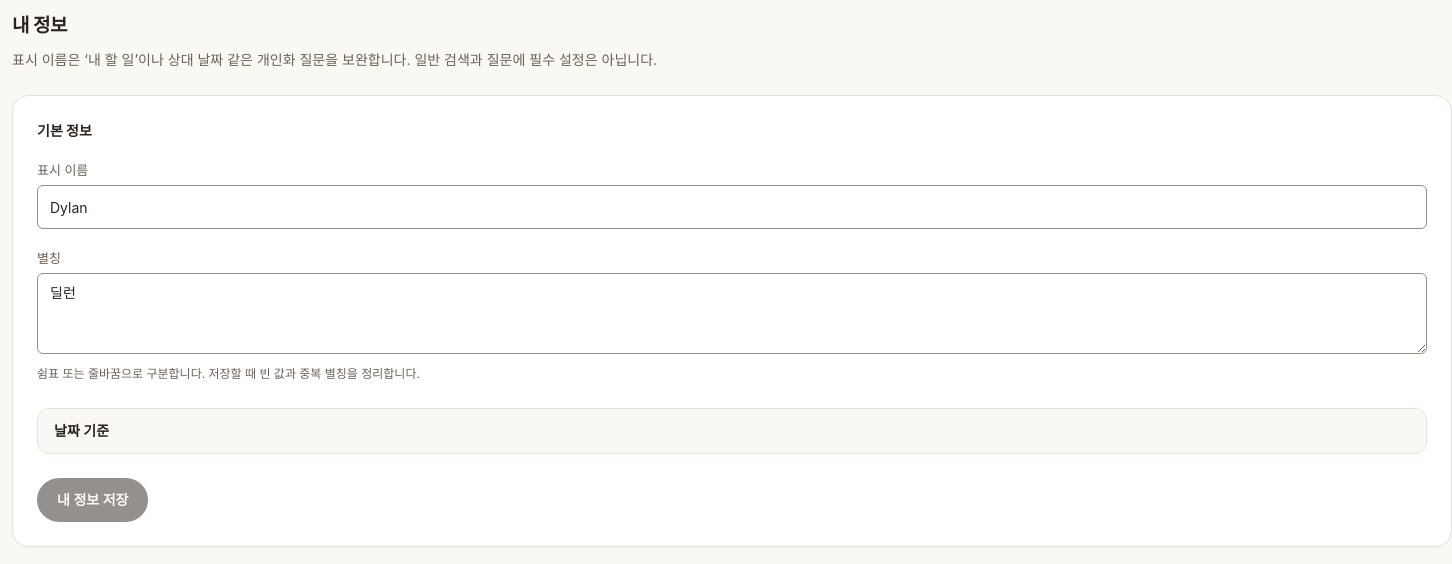
Test: UserProfileForm › preserves the draft when save is non_ok
Replace the text in the field labelled "표시 이름" with "작성 중 이름": (732, 207) x1=37 y1=185 x2=1427 y2=229
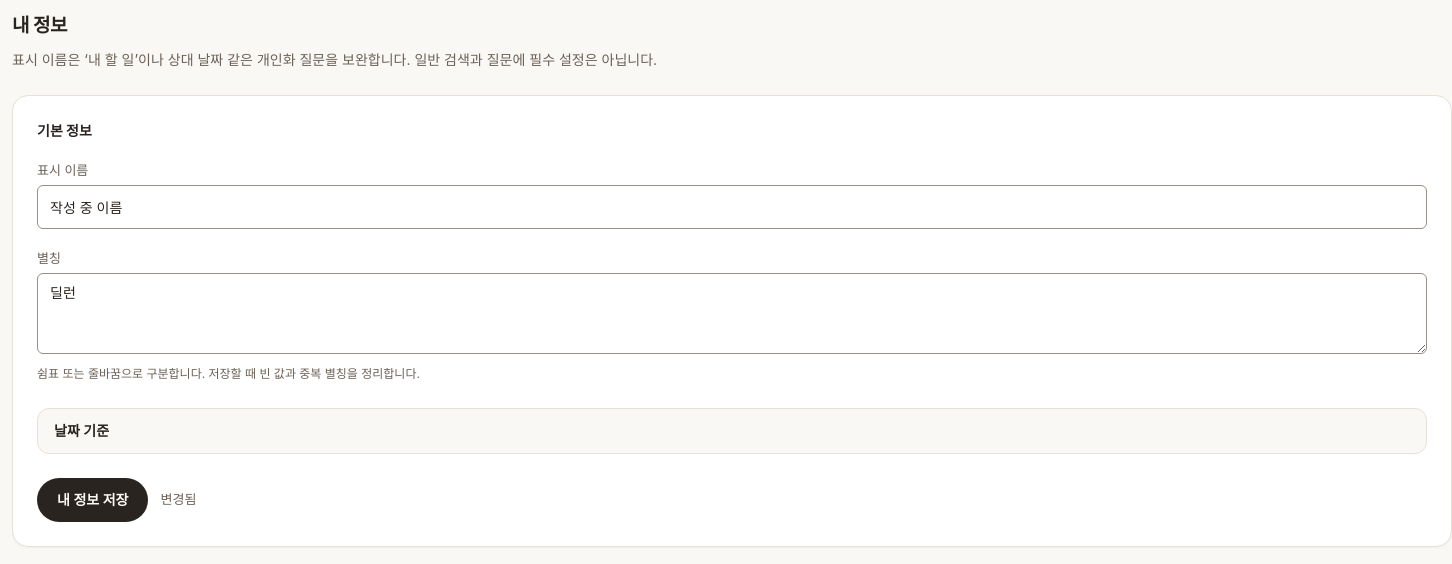
Click the button "내 정보 저장": (93, 500) x1=37 y1=478 x2=148 y2=522
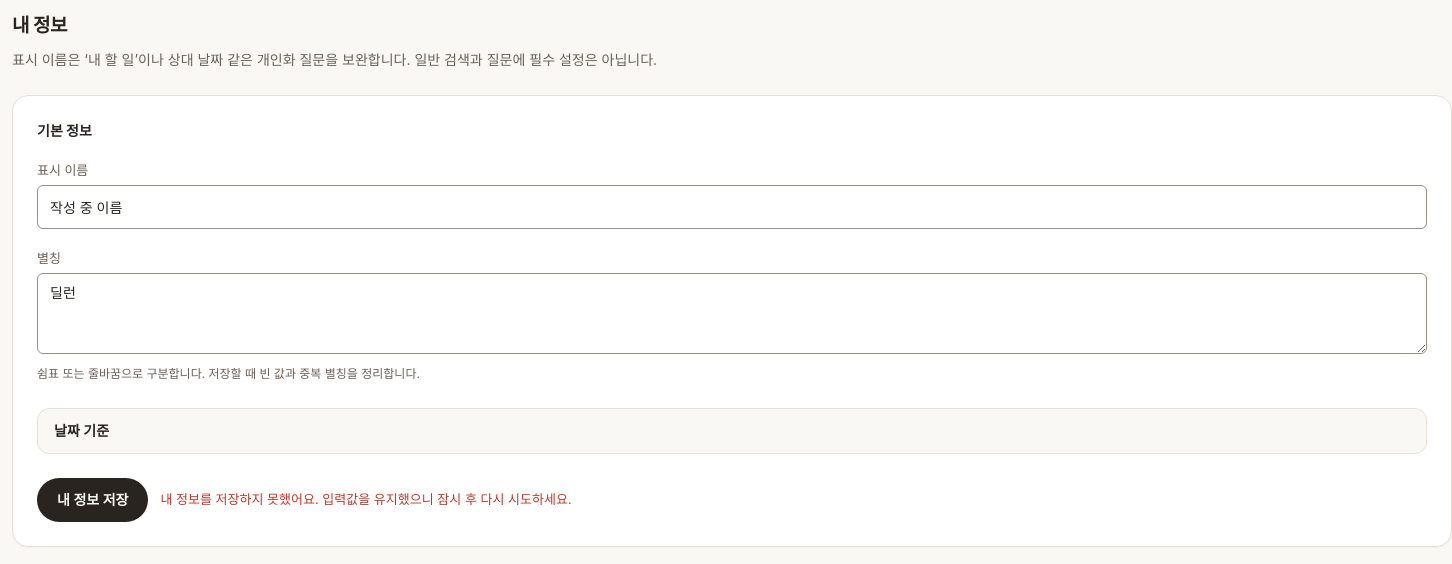
Now the button "내 정보 저장" is enabled, box x1=37 y1=478 x2=148 y2=522
Now the message shows "저장하지 못했어요", box x1=160 y1=491 x2=572 y2=507
